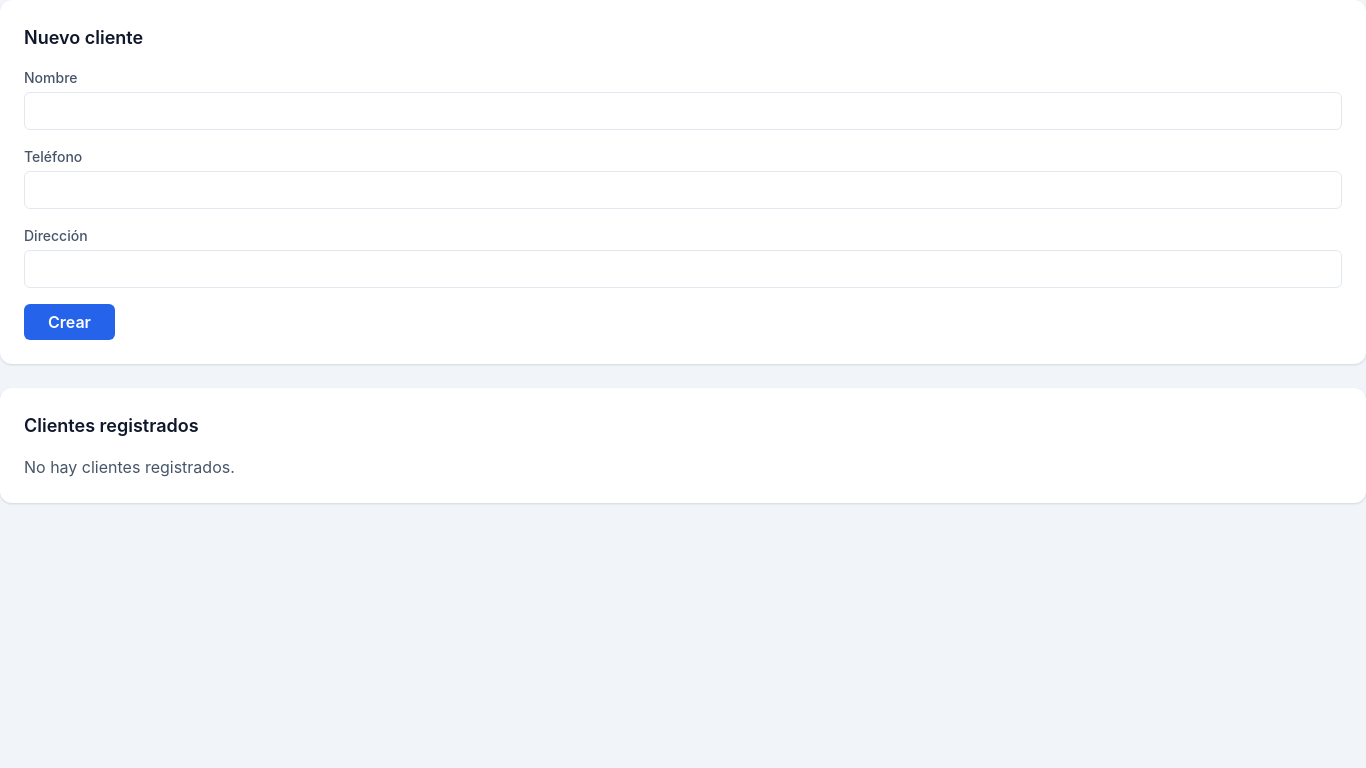
Test: Clientes: error de validacion al crear (Req. 2.5, 16.1) › muestra el mensaje de error y conserva los datos ingresados
Expected: the text "No hay clientes registrados." is shown, [24,457,235,477]
// El usuario escribe datos en el formulario.
Type "Cliente de prueba" into the field labelled "Nombre".
click(683, 111); type("Cliente de prueba")  # box [24,92,1342,130]
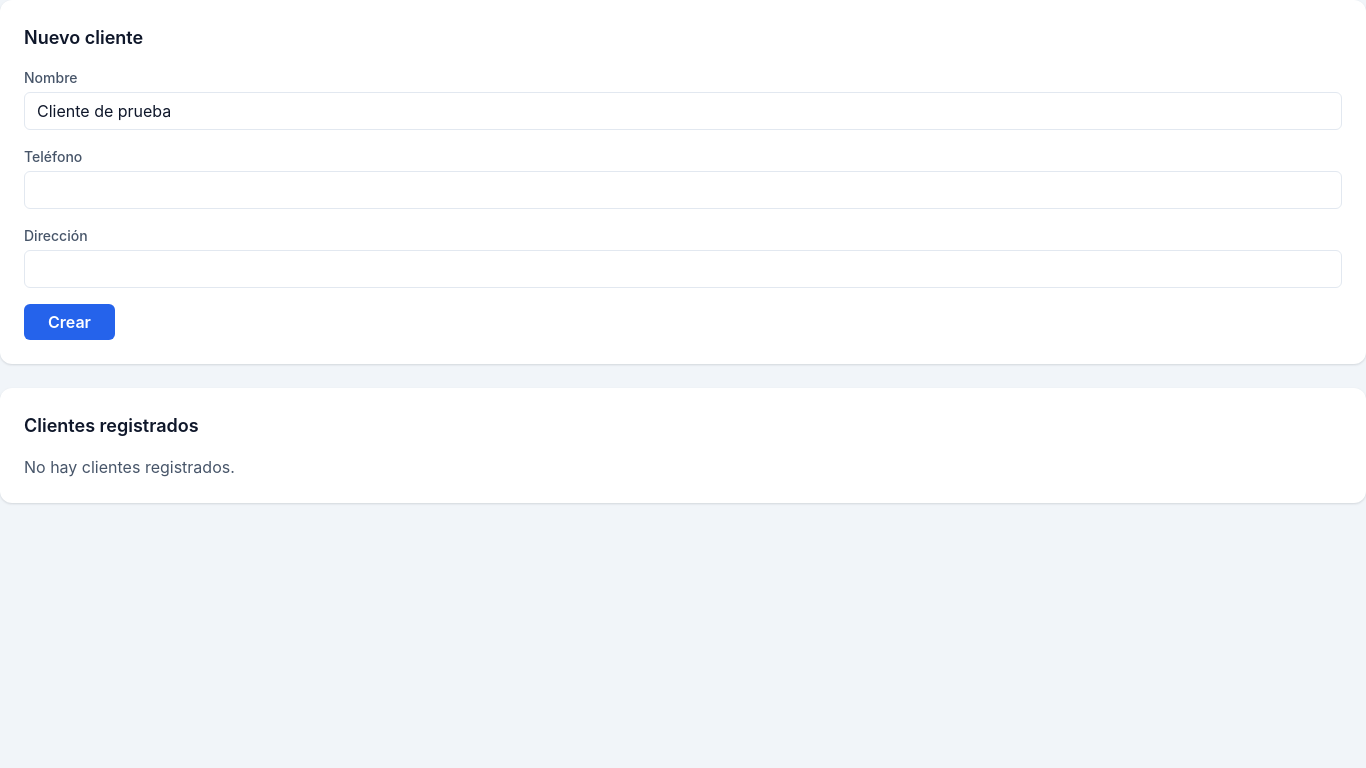
Type "555-0000" into the field labelled "Teléfono".
click(683, 190); type("555-0000")  # box [24,171,1342,209]
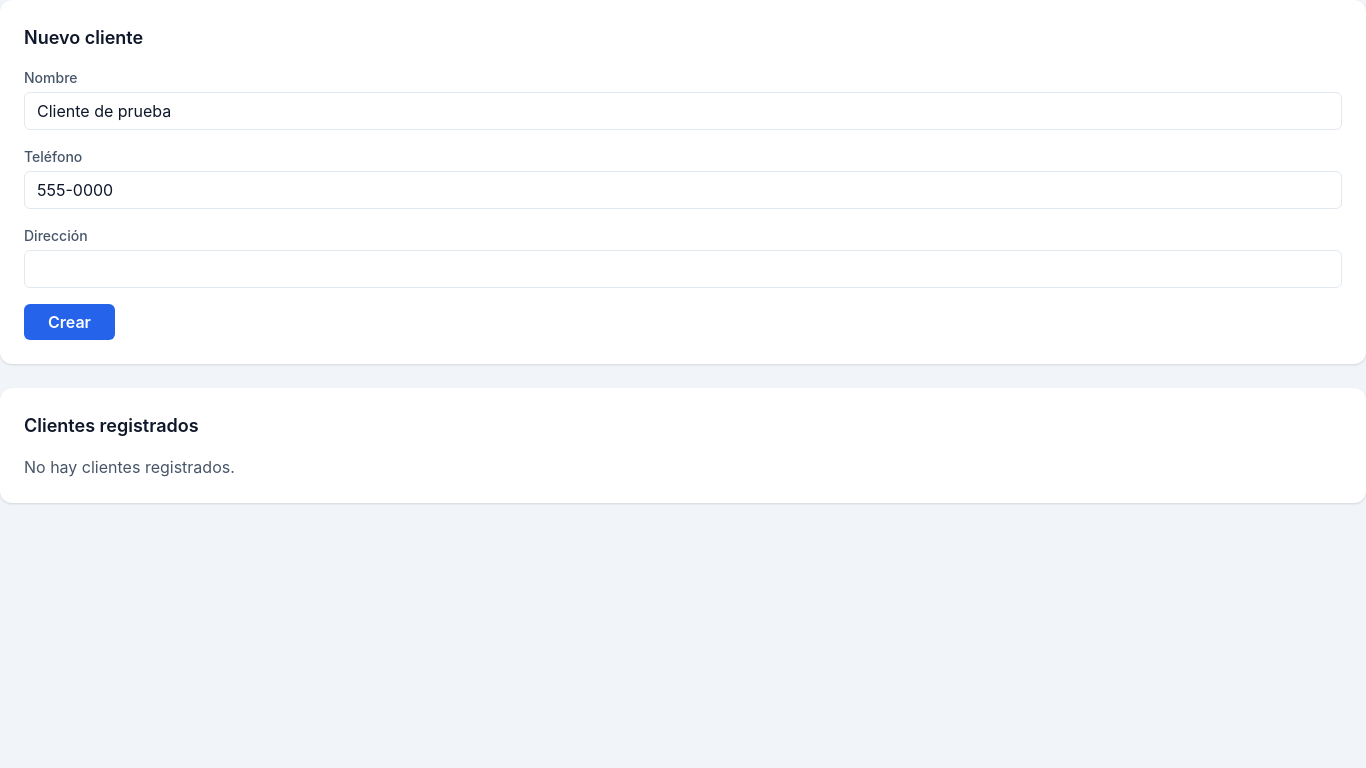
Type "Av. Siempre Viva" into the field labelled "Dirección".
click(683, 269); type("Av. Siempre Viva")  # box [24,250,1342,288]
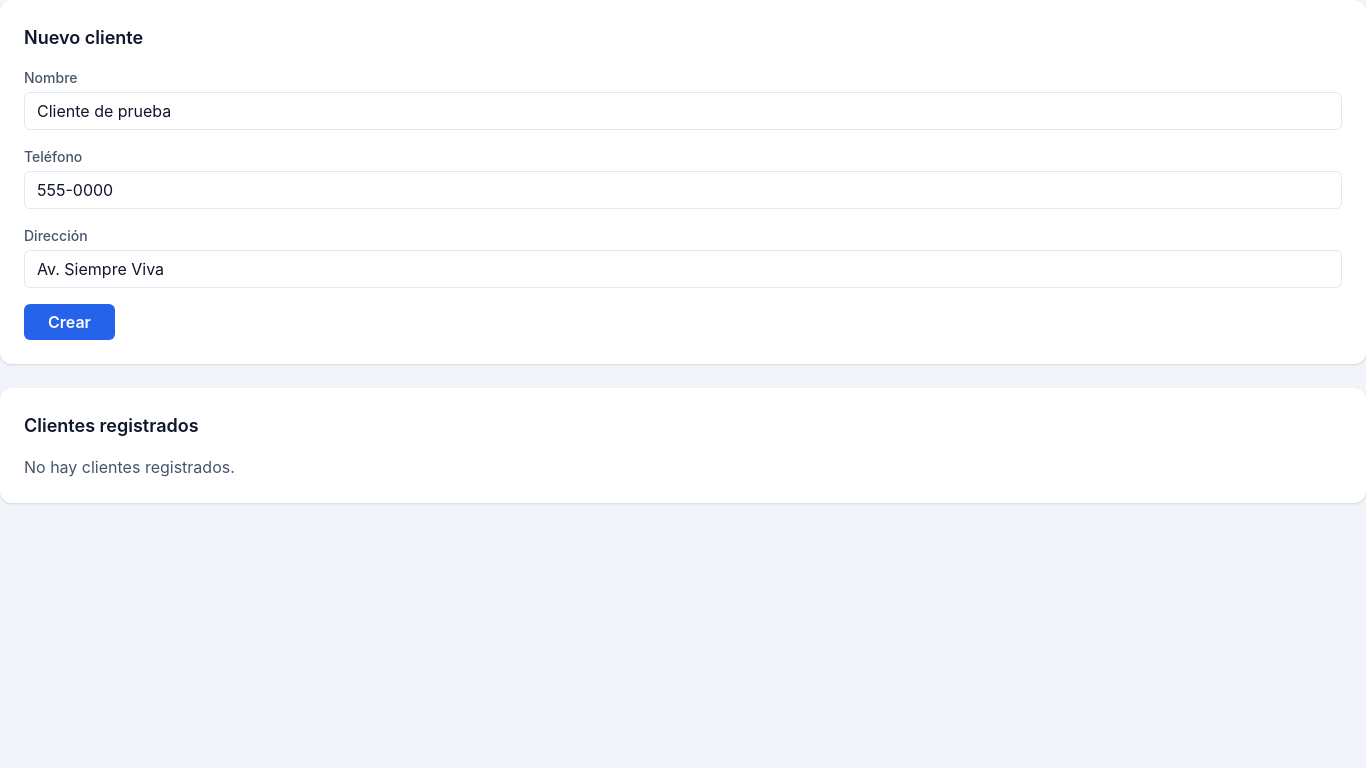
// Envia el formulario (boton "Crear").
Click the button "Crear".
click(70, 322)  # box [24,304,115,340]
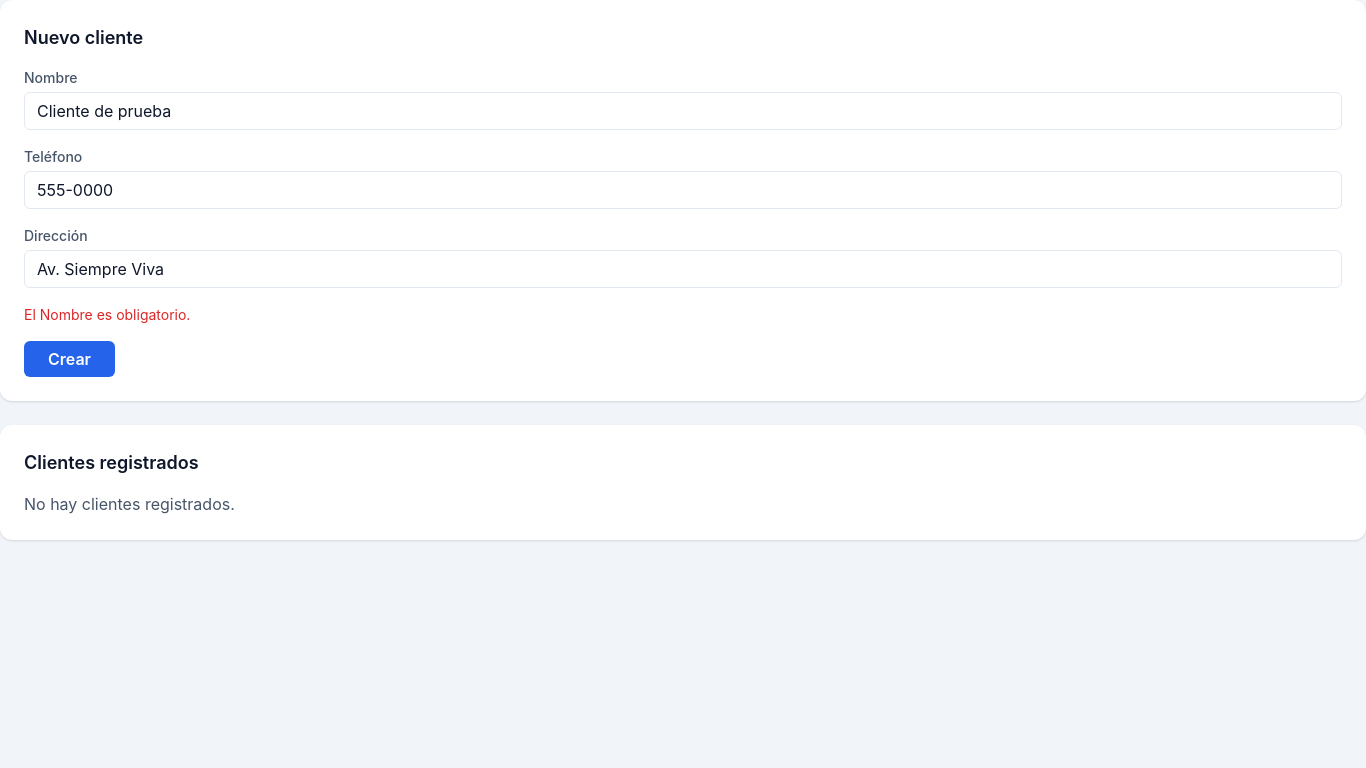
Result: the text "El Nombre es obligatorio." is shown at [24,306,190,323]
